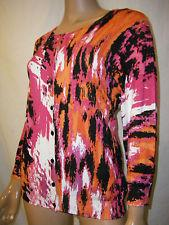C_blouse: (7, 7, 161, 220)
